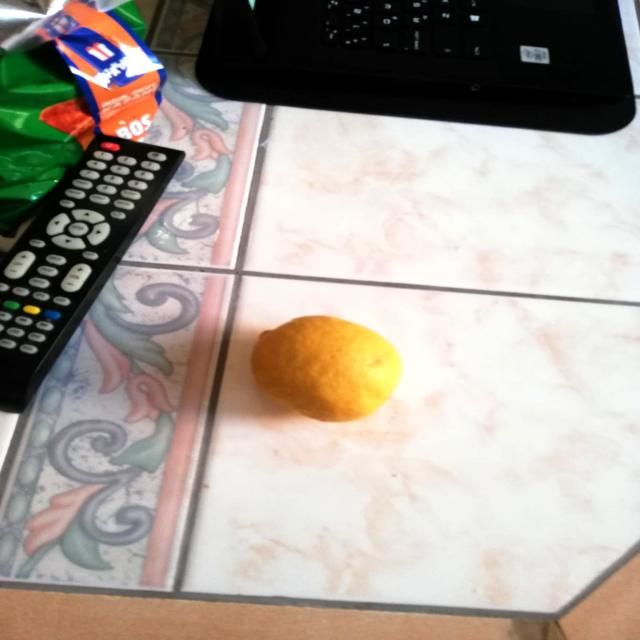lemon: (243, 313, 410, 425)
